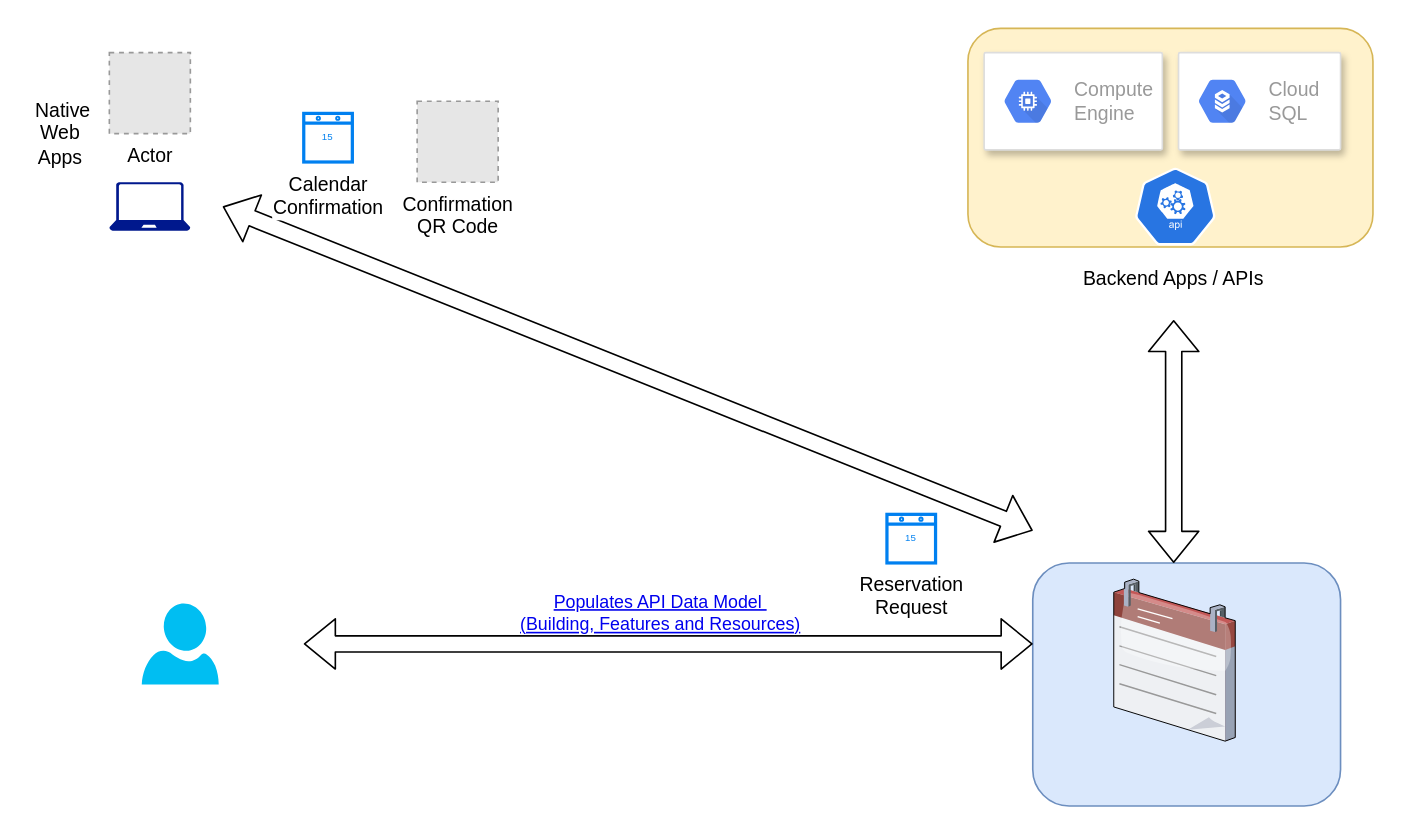
Image size: 1401x834. Some labels were removed from this diagram. Grey dashed boxes stand in for pictures. Each missing label, with the centre of its shape:
"Google Calendar APIs" belongs at (1173,659).
"Host" belongs at (179,643).
